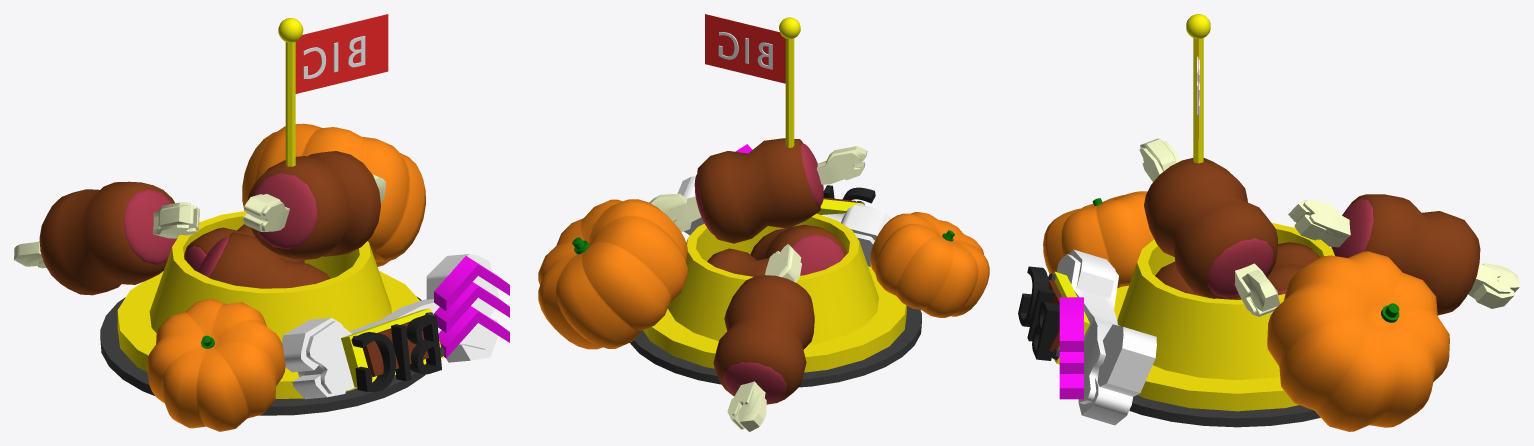
File: item_big.obj
The picture shows the model from 3 angles, left to right: view 1: azimuth 30°, elevation 25°; view 2: azimuth 150°, elevation 25°; view 3: azimuth 270°, elevation 25°; orthographic projection. The views are drawn at different scales.
Parts seen in each view (by area): view 1: group16 pCylinder2, group16 group15 group7 pumpkin:pSphere1, group16 group15 pCylinder1 group13, group16 group15 group8 pSphere1, group16 group15 group11 big_up:pCube1, group16 group15 meet_and_bone:pCylinder1 group12, group16 group15 group14 flag:pCube1, pCylinder1 group16, group16 group15 group11 big_up:typeMesh2, group16 group15 pCylinder1 group4, group16 group15 group12 meet_and_bone:pSphere1, group16 group15 group13 pSphere1 (+12 smaller); view 2: group16 group15 group8 pSphere1, group16 pCylinder2, group16 group15 group7 pumpkin:pSphere1, group16 group15 meet_and_bone:pCylinder1 group12, group16 group15 pCylinder1 group13, pCylinder1 group16, group16 group15 group14 flag:pCube1, group16 group15 group12 meet_and_bone:bone:pCube1, group16 group15 group13 pCube1, group16 group15 group11 big_up:pCube1, group16 group15 group13 pSphere2, group16 group15 group4 pSphere1 (+7 smaller); view 3: group16 group15 group8 pSphere1, group16 pCylinder2, group16 group15 meet_and_bone:pCylinder1 group12, group16 group15 group11 big_up:pCube1, group16 group15 pCylinder1 group13, group16 group15 group7 pumpkin:pSphere1, group16 group15 group13 pCube1, pCylinder1 group16, group16 group15 group12 meet_and_bone:bone:pCube1, group16 group15 group11 big_up:typeMesh2, group16 group15 group12 meet_and_bone:pSphere2, group16 group15 group13 pSphere1 (+8 smaller).
Part boxes in pixels (box(x1,y1,x2,y2)): group16 pCylinder2: box(117, 211, 419, 398); group16 group15 group7 pumpkin:pSphere1: box(146, 299, 285, 431); group16 group15 pCylinder1 group13: box(39, 181, 174, 295); group16 group15 group8 pSphere1: box(242, 123, 425, 266); group16 group15 group11 big_up:pCube1: box(281, 254, 499, 399); group16 group15 meet_and_bone:pCylinder1 group12: box(248, 151, 380, 259); group16 group15 group14 flag:pCube1: box(295, 14, 388, 93); pCylinder1 group16: box(100, 296, 425, 415); group16 group15 group11 big_up:typeMesh2: box(352, 314, 441, 391); group16 group15 pCylinder1 group4: box(209, 232, 329, 288); group16 group15 group12 meet_and_bone:pSphere1: box(253, 173, 317, 249); group16 group15 group13 pSphere1: box(123, 189, 177, 264); group16 group15 group8 pSphere1: box(538, 199, 687, 349); group16 pCylinder2: box(643, 213, 906, 372); group16 group15 group7 pumpkin:pSphere1: box(870, 212, 989, 317); group16 group15 meet_and_bone:pCylinder1 group12: box(697, 138, 820, 243); group16 group15 pCylinder1 group13: box(713, 275, 814, 404); pCylinder1 group16: box(630, 306, 921, 387); group16 group15 group14 flag:pCube1: box(705, 14, 785, 83); group16 group15 group12 meet_and_bone:bone:pCube1: box(649, 146, 867, 232); group16 group15 group13 pCube1: box(727, 244, 801, 431); group16 group15 group11 big_up:pCube1: box(677, 176, 891, 266); group16 group15 group13 pSphere2: box(723, 362, 786, 402); group16 group15 group4 pSphere1: box(791, 234, 844, 275); group16 group15 group8 pSphere1: box(1267, 251, 1449, 431); group16 pCylinder2: box(1114, 223, 1334, 411); group16 group15 meet_and_bone:pCylinder1 group12: box(1144, 158, 1277, 299); group16 group15 group11 big_up:pCube1: box(1056, 249, 1156, 425); group16 group15 pCylinder1 group13: box(1349, 194, 1480, 315); group16 group15 group7 pumpkin:pSphere1: box(1043, 191, 1153, 288); group16 group15 group13 pCube1: box(1288, 200, 1519, 308); pCylinder1 group16: box(1129, 395, 1320, 427); group16 group15 group12 meet_and_bone:bone:pCube1: box(1139, 138, 1279, 316); group16 group15 group11 big_up:typeMesh2: box(1018, 266, 1059, 360); group16 group15 group12 meet_and_bone:pSphere2: box(1207, 238, 1272, 297); group16 group15 group13 pSphere1: box(1331, 199, 1373, 257).
Bounding box in the file's own units: 17.79 × 15.46 × 20.44.
